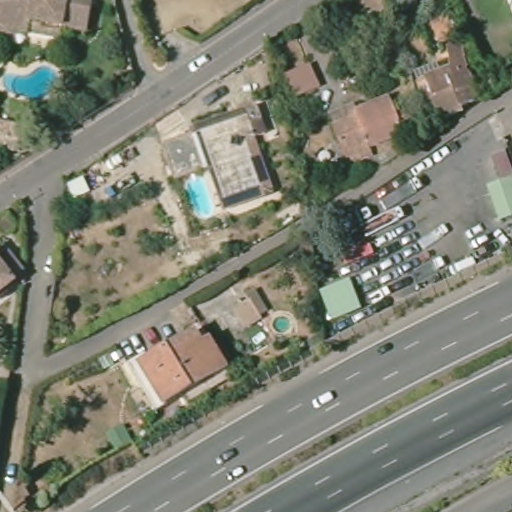pool: (1, 55, 68, 107), (183, 167, 221, 226), (258, 308, 298, 344)
